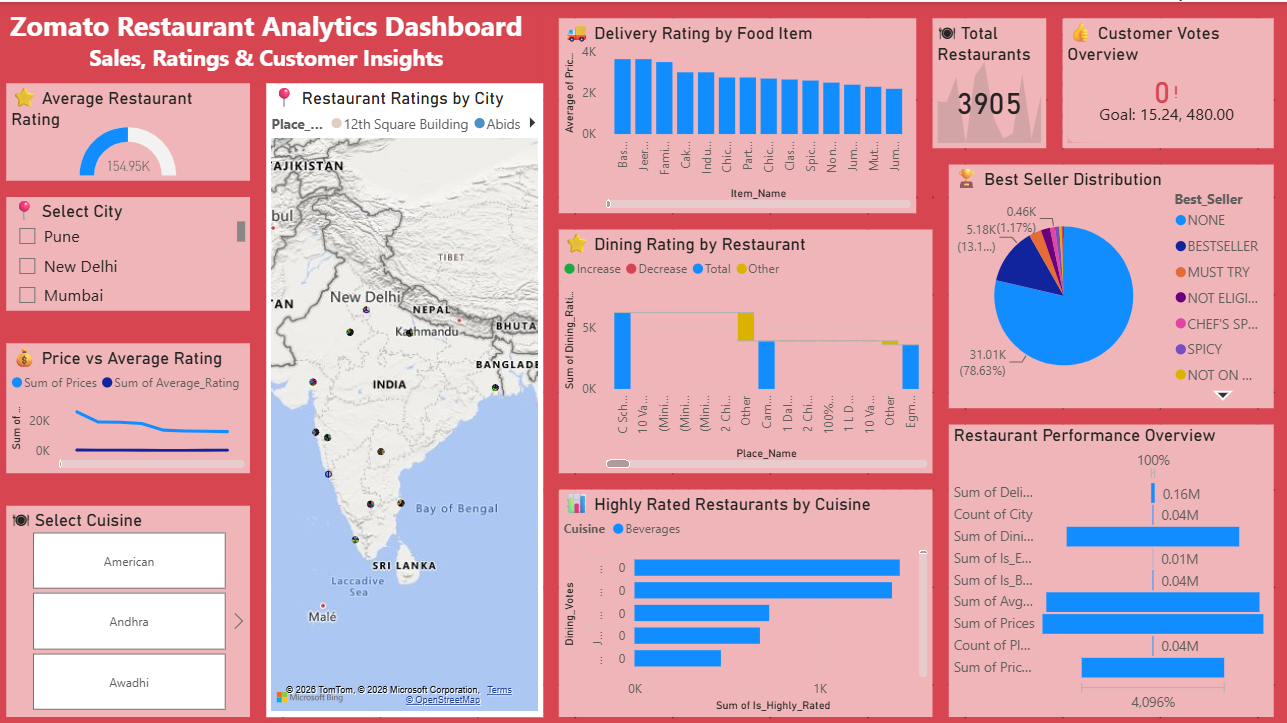

The page's visual inventory and layout, read from the dashboard file:
{"tool":"powerbi","page":{"name":"Page 2","canvas":[1280,720],"ordinal":1},"visuals":[{"type":"funnel","title":"Restaurant Performance Overview","fields":{"Y":["Sum(enhanced_zomato_dataset_clean.Delivery_Rating)","CountNonNull(enhanced_zomato_dataset_clean.City)","Sum(enhanced_zomato_dataset_clean.Dining_Votes)","Sum(enhanced_zomato_dataset_clean.Is_Expensive)","Sum(enhanced_zomato_dataset_clean.Is_Bestseller)","Sum(enhanced_zomato_dataset_clean.Avg_Price_City)","Sum(enhanced_zomato_dataset_clean.Prices)","CountNonNull(enhanced_zomato_dataset_clean.Place_Name)","Sum(enhanced_zomato_dataset_clean.Price_per_Vote)"]},"box":[944,416,320,288],"z":0},{"type":"textbox","box":[0,0,272,720],"z":1000},{"type":"textbox","box":[0,0,544,80],"z":2000},{"type":"map","title":"📍 Restaurant Ratings by City","fields":{"Category":["enhanced_zomato_dataset_clean.City"],"Series":["enhanced_zomato_dataset_clean.Place_Name"],"Y":["Avg(enhanced_zomato_dataset_clean.Average_Rating)"],"X":["Min(enhanced_zomato_dataset_clean.Cuisine)"]},"box":[272,80,272,624],"z":3000},{"type":"pieChart","title":"🏆 Best Seller Distribution","fields":{"Category":["enhanced_zomato_dataset_clean.Best_Seller"],"Y":["CountNonNull(enhanced_zomato_dataset_clean.City)"]},"box":[944,160,320,240],"z":5000},{"type":"clusteredColumnChart","title":"🚚 Delivery Rating by Food Item","fields":{"Category":["enhanced_zomato_dataset_clean.Item_Name"],"Y":["Avg(enhanced_zomato_dataset_clean.Price_per_Vote)"]},"box":[560,16,352,192],"z":6000},{"type":"waterfallChart","title":"⭐ Dining Rating by Restaurant","fields":{"Category":["enhanced_zomato_dataset_clean.Place_Name"],"Y":["Sum(enhanced_zomato_dataset_clean.Dining_Rating)"],"Breakdown":["enhanced_zomato_dataset_clean.Item_Name"]},"box":[560,224,368,240],"z":7000},{"type":"kpi","title":"🍽 Total Restaurants","fields":{"Indicator":["CountNonNull(enhanced_zomato_dataset_clean.Cuisine)"],"TrendLine":["enhanced_zomato_dataset_clean.City"]},"box":[928,16,112,128],"z":8000},{"type":"kpi","title":"👍 Customer Votes Overview","fields":{"Goal":["Sum(enhanced_zomato_dataset_clean.Log_Price)","Sum(enhanced_zomato_dataset_clean.Prices)"],"Indicator":["Sum(enhanced_zomato_dataset_clean.Total_Votes)"],"TrendLine":["enhanced_zomato_dataset_clean.Votes"]},"box":[1056,16,208,128],"z":9000},{"type":"slicer","title":"📍 Select City","fields":{"Values":["enhanced_zomato_dataset_clean.City"]},"box":[16,192,240,112],"z":11000},{"type":"slicer","title":"🍽 Select Cuisine","fields":{"Values":["enhanced_zomato_dataset_clean.Cuisine"]},"box":[16,496,240,208],"z":12000},{"type":"lineChart","title":"💰 Price vs Average Rating","fields":{"Y":["Sum(enhanced_zomato_dataset_clean.Prices)","Sum(enhanced_zomato_dataset_clean.Average_Rating)"],"Category":["enhanced_zomato_dataset_clean.Item_Name"]},"box":[16,336,240,128],"z":13000},{"type":"clusteredBarChart","title":"📊 Highly Rated Restaurants by Cuisine","fields":{"Category":["enhanced_zomato_dataset_clean.City","enhanced_zomato_dataset_clean.Dining_Votes"],"Series":["enhanced_zomato_dataset_clean.Cuisine"],"Y":["Sum(enhanced_zomato_dataset_clean.Is_Highly_Rated)"]},"box":[560,480,368,224],"z":14000},{"type":"gauge","title":"⭐ Average Restaurant Rating","fields":{"Y":["Sum(enhanced_zomato_dataset_clean.Average_Rating)"]},"box":[16,80,240,96],"z":15000}]}

Visuals, with their boxes in screenshot pixels (x1, y1, x2, y2), scaled from the page's 1280x720 canvas onto the 1287x723 screenshot:
"Restaurant Performance Overview" funnel: x1=949 y1=418 x2=1271 y2=707
textbox: x1=0 y1=0 x2=273 y2=722
textbox: x1=0 y1=0 x2=547 y2=80
"📍 Restaurant Ratings by City" map: x1=273 y1=80 x2=547 y2=707
"🏆 Best Seller Distribution" pieChart: x1=949 y1=161 x2=1271 y2=402
"🚚 Delivery Rating by Food Item" clusteredColumnChart: x1=563 y1=16 x2=917 y2=209
"⭐ Dining Rating by Restaurant" waterfallChart: x1=563 y1=225 x2=933 y2=466
"🍽 Total Restaurants" kpi: x1=933 y1=16 x2=1046 y2=145
"👍 Customer Votes Overview" kpi: x1=1062 y1=16 x2=1271 y2=145
"📍 Select City" slicer: x1=16 y1=193 x2=257 y2=305
"🍽 Select Cuisine" slicer: x1=16 y1=498 x2=257 y2=707
"💰 Price vs Average Rating" lineChart: x1=16 y1=337 x2=257 y2=466
"📊 Highly Rated Restaurants by Cuisine" clusteredBarChart: x1=563 y1=482 x2=933 y2=707
"⭐ Average Restaurant Rating" gauge: x1=16 y1=80 x2=257 y2=177
